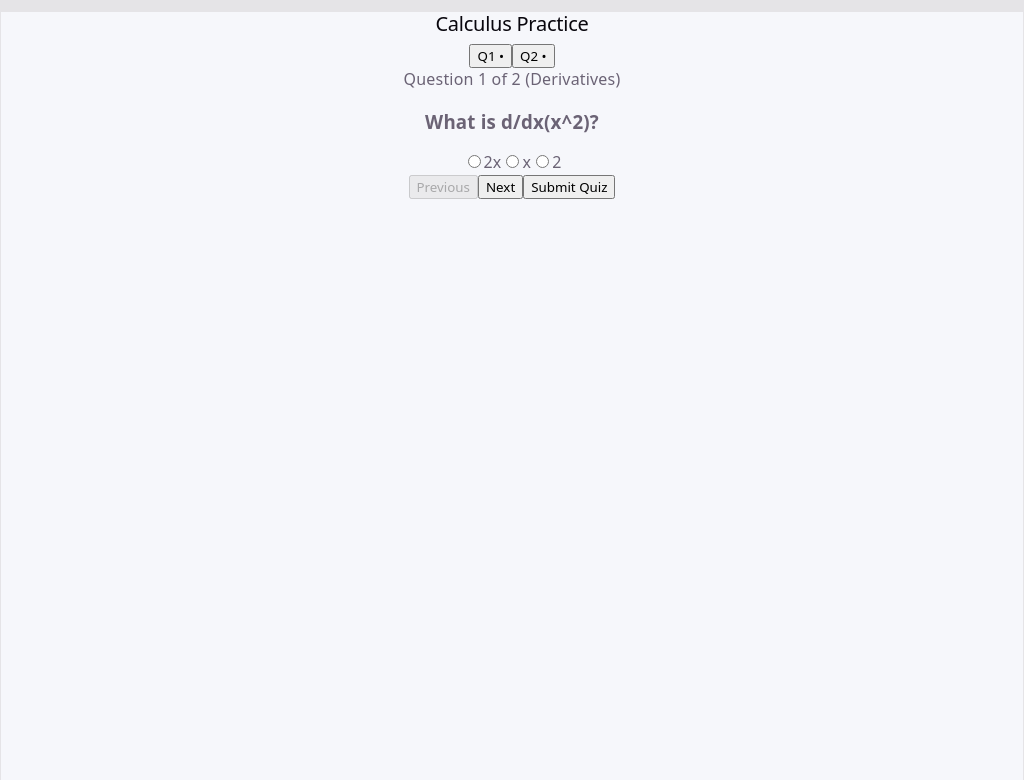
Test case: QuizPlayer › supports navigation, answer selection, deterministic grading results, and omits raw JSON
This screenshot has width=1024, height=780.
Click the radio button labelled "2x": (474, 162) [468, 155, 480, 168]
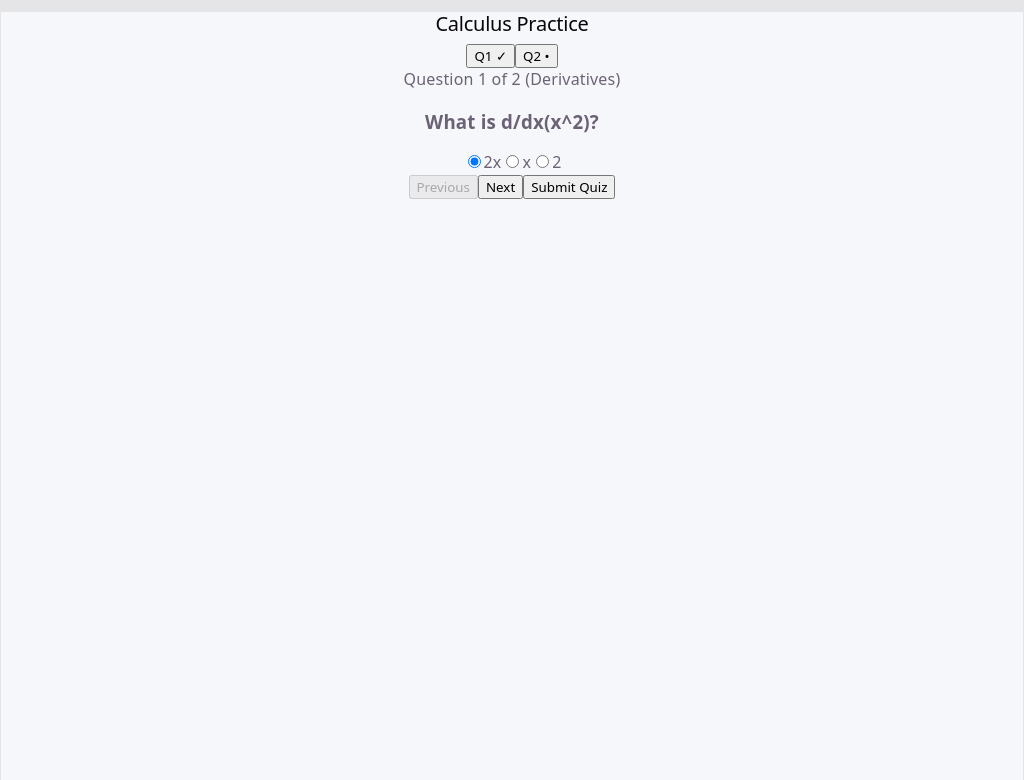
Click the button "Next": (501, 187) [478, 175, 523, 199]
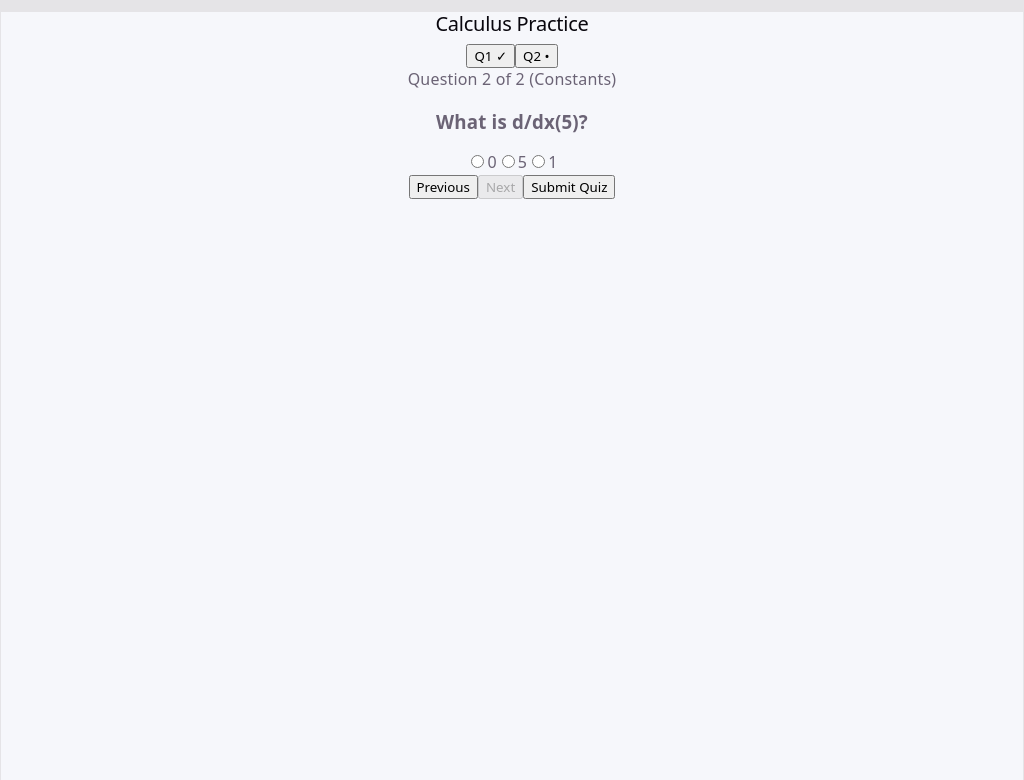
Click the radio button labelled "5": (508, 162) [502, 155, 515, 168]
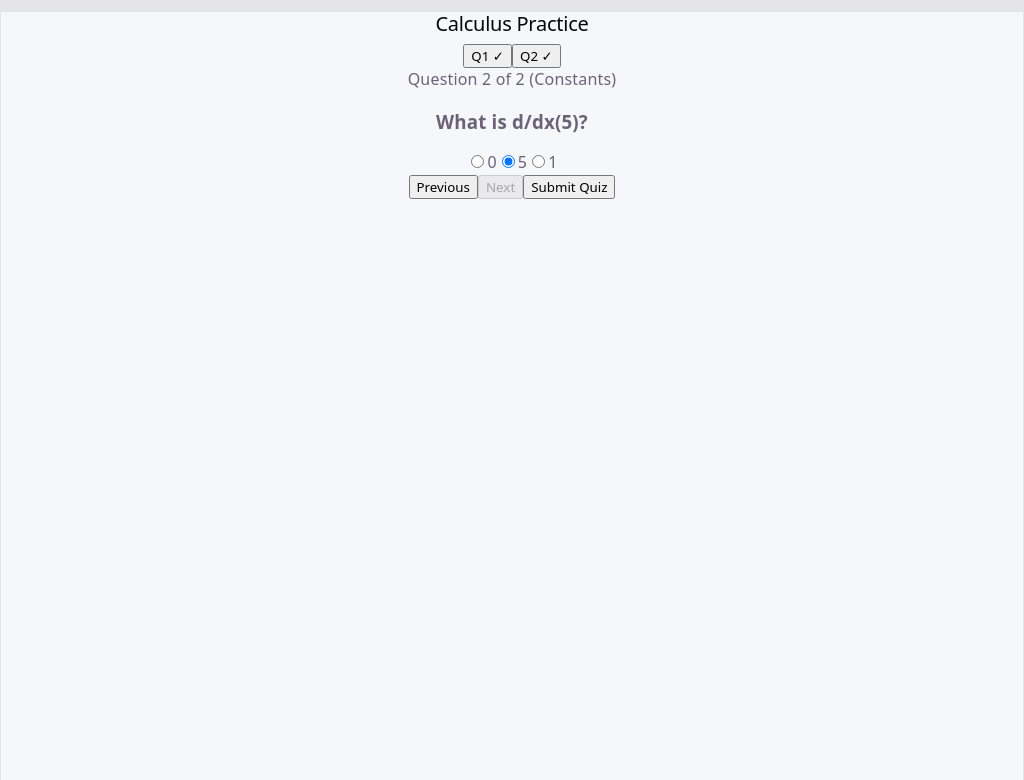
Click the button "Submit Quiz": (569, 187) [523, 175, 616, 199]
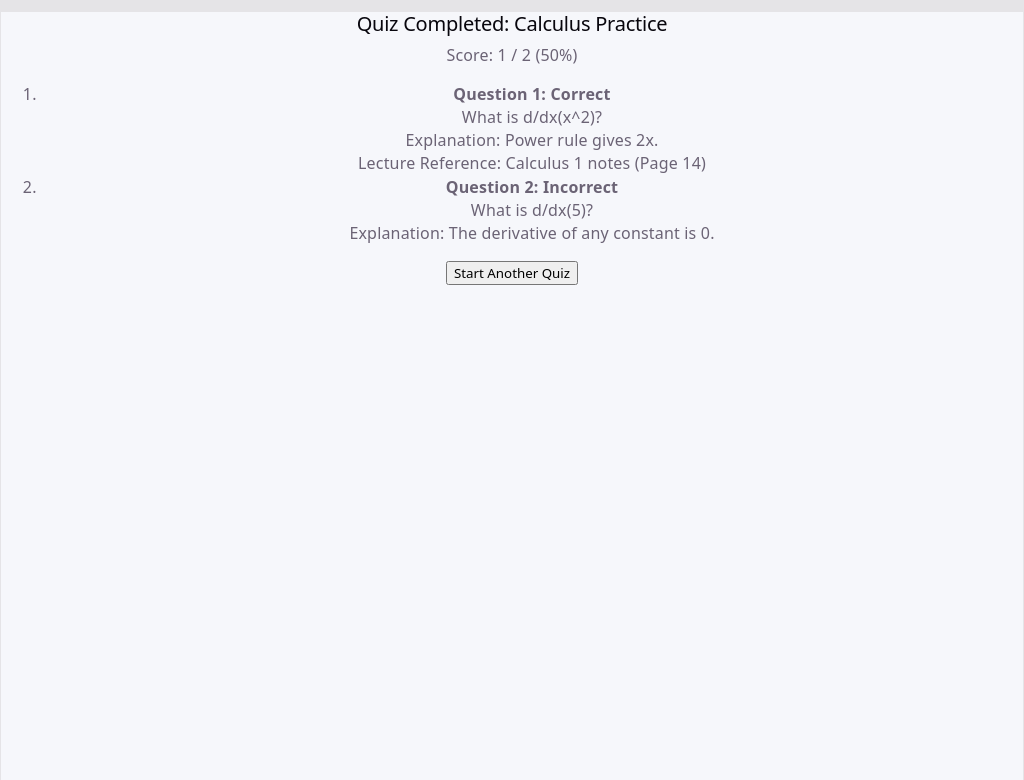
Result: the text with test id "quiz-score" reads "Score: 1 / 2 (50%)" at [446, 44, 578, 66]
Result: the text "Question 1: Correct" is shown at [453, 83, 611, 105]
Result: the text "Question 2: Incorrect" is shown at [446, 176, 618, 198]
